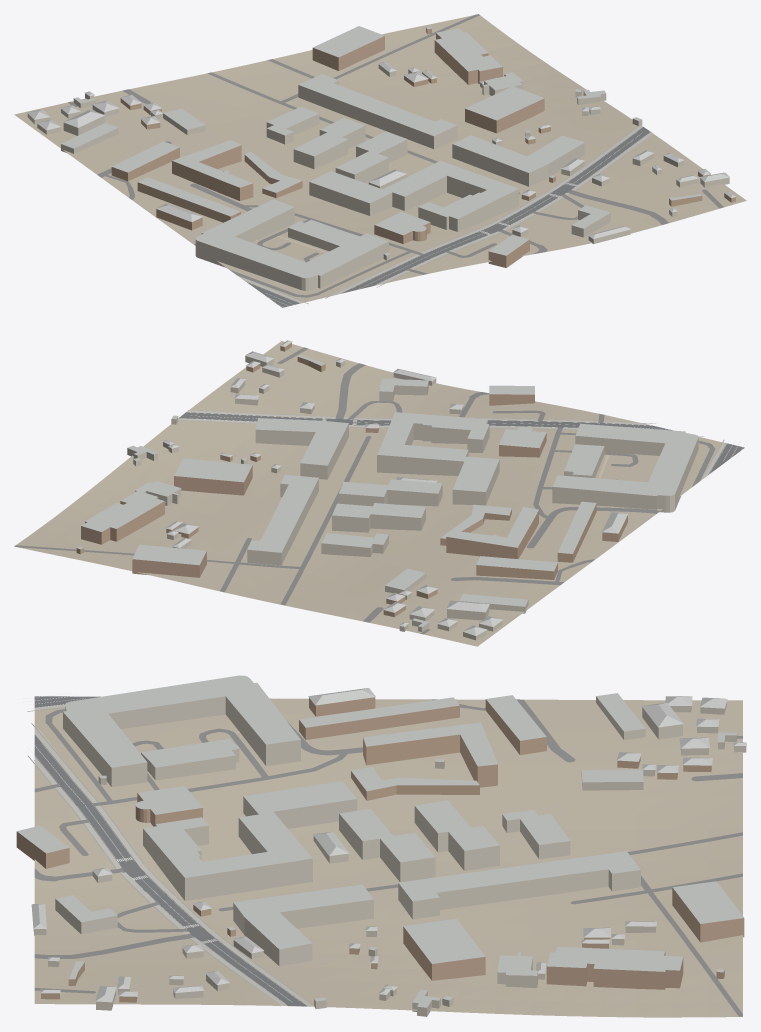
Rendered from bolak_-8_2.glb.
3 renders of one model, top to bottom at view 1: azimuth 30°, elevation 25°; view 2: azimuth 150°, elevation 25°; view 3: azimuth 270°, elevation 25°, orthographic. The views are drawn at different scales.
Visible parts, largest first — view 1: Yer_Tuproq-col, Tom_Shifer, Devor_Suvoq-col, Devor_Gisht-col, Yol_Mahalla-col, Yol_Asfalt-col, Trotuar, Ariq; view 2: Yer_Tuproq-col, Tom_Shifer, Devor_Suvoq-col, Devor_Gisht-col, Yol_Mahalla-col, Yol_Asfalt-col, Trotuar, Ariq; view 3: Yer_Tuproq-col, Tom_Shifer, Devor_Suvoq-col, Devor_Gisht-col, Yol_Mahalla-col, Yol_Asfalt-col, Trotuar, Ariq, Yol_Chiziq.
Boxes of the visible parts, bbox=[...] form: Yer_Tuproq-col: bbox=[14, 15, 746, 307]; Tom_Shifer: bbox=[27, 26, 736, 278]; Devor_Suvoq-col: bbox=[27, 64, 729, 290]; Devor_Gisht-col: bbox=[111, 27, 735, 267]; Yol_Mahalla-col: bbox=[68, 14, 723, 297]; Yol_Asfalt-col: bbox=[246, 127, 650, 307]; Trotuar: bbox=[238, 125, 652, 302]; Ariq: bbox=[251, 125, 652, 304]; Yer_Tuproq-col: bbox=[15, 341, 727, 646]; Tom_Shifer: bbox=[77, 340, 698, 635]; Devor_Suvoq-col: bbox=[127, 356, 698, 640]; Devor_Gisht-col: bbox=[76, 342, 627, 617]; Yol_Mahalla-col: bbox=[14, 347, 715, 634]; Yol_Asfalt-col: bbox=[179, 412, 744, 474]; Trotuar: bbox=[178, 410, 726, 479]; Ariq: bbox=[178, 410, 724, 473]; Yer_Tuproq-col: bbox=[34, 698, 742, 1017]; Tom_Shifer: bbox=[17, 675, 746, 1007]; Devor_Suvoq-col: bbox=[33, 696, 746, 1016]; Devor_Gisht-col: bbox=[16, 697, 744, 1002]; Yol_Mahalla-col: bbox=[34, 699, 742, 1016]; Yol_Asfalt-col: bbox=[34, 696, 306, 1006]; Trotuar: bbox=[34, 704, 313, 1006]; Ariq: bbox=[27, 707, 313, 1005]; Yol_Chiziq: bbox=[16, 693, 298, 1002].
Size of what is drawn, in the model's own units: 413 by 23.63 by 414.
